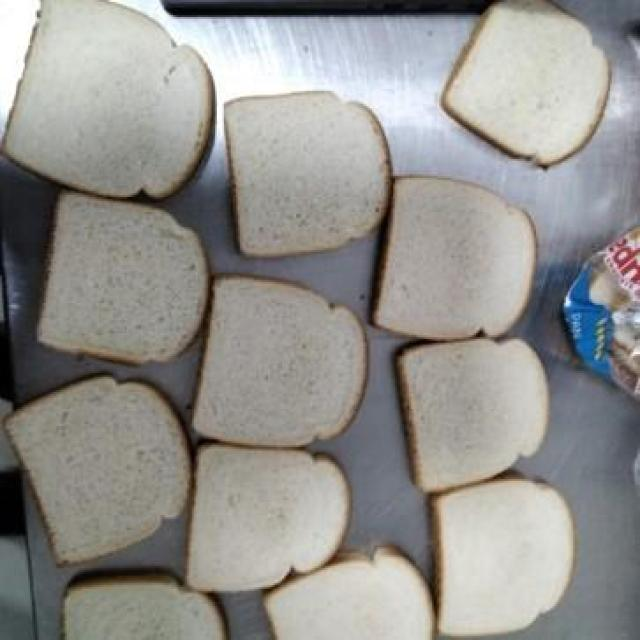pan: (2, 0, 215, 199), (3, 373, 197, 567), (34, 190, 211, 364), (192, 273, 370, 446), (224, 90, 395, 255), (442, 2, 610, 169), (374, 174, 538, 341), (184, 442, 351, 591), (395, 336, 550, 492), (426, 473, 574, 636)
